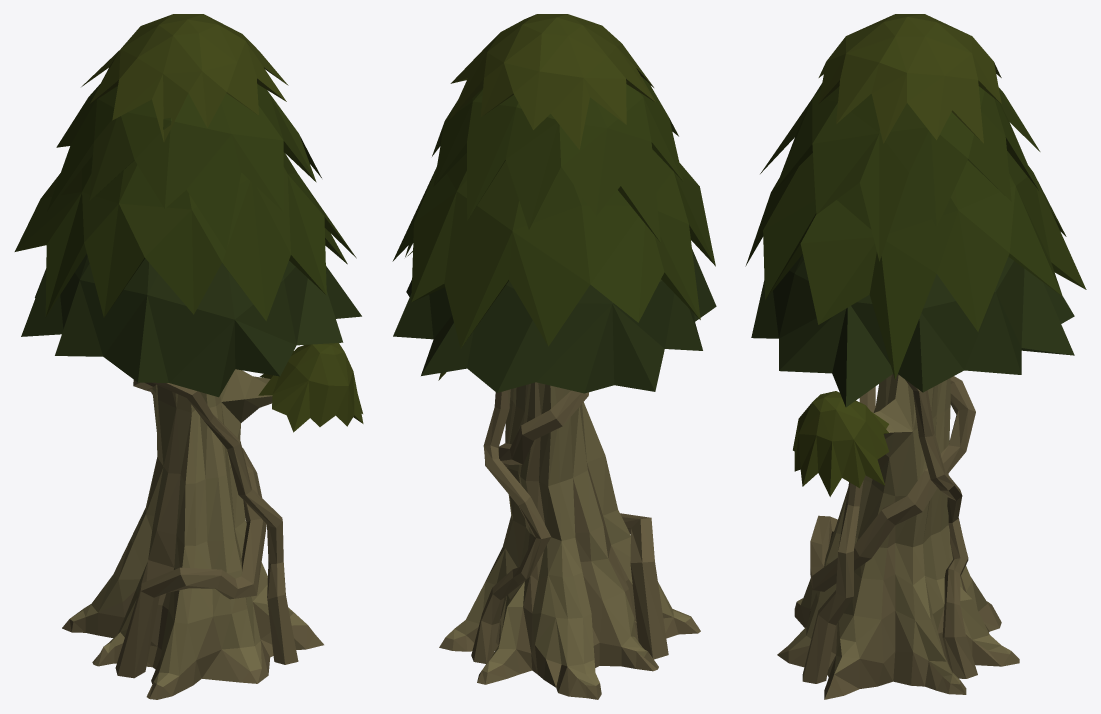
Rendered from celastrus.gltf.
The picture shows the model from 3 angles, left to right: view 1: azimuth 30°, elevation 25°; view 2: azimuth 150°, elevation 25°; view 3: azimuth 270°, elevation 25°; orthographic projection. The views are drawn at different scales.
Size of the model in its own units: 178 by 355 by 173.
1 material, 1 textured.
